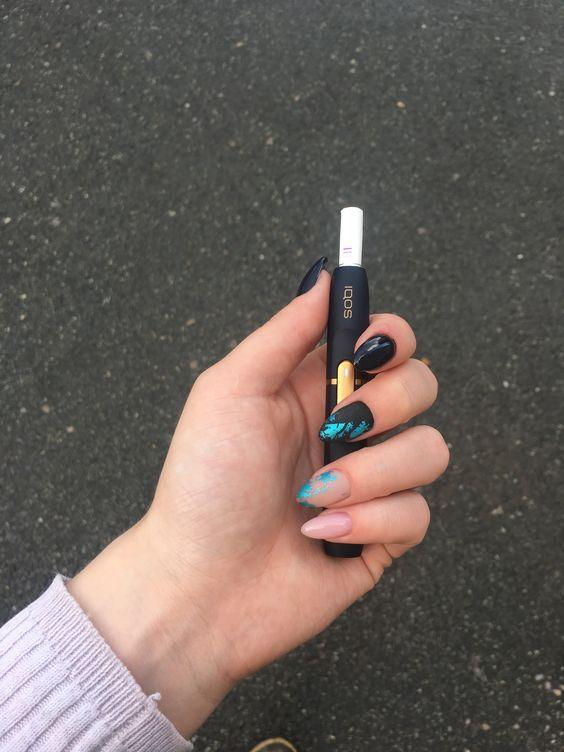iqos: (323, 206, 373, 558)
